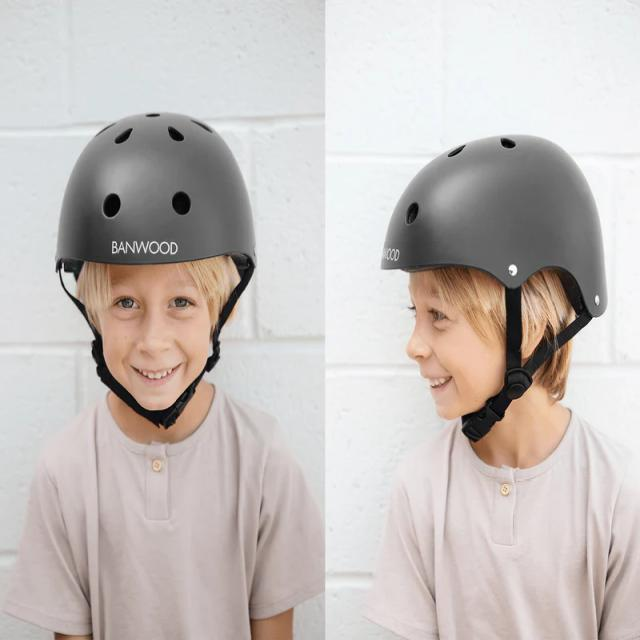helmet: (384, 128, 606, 442), (58, 110, 260, 428)
